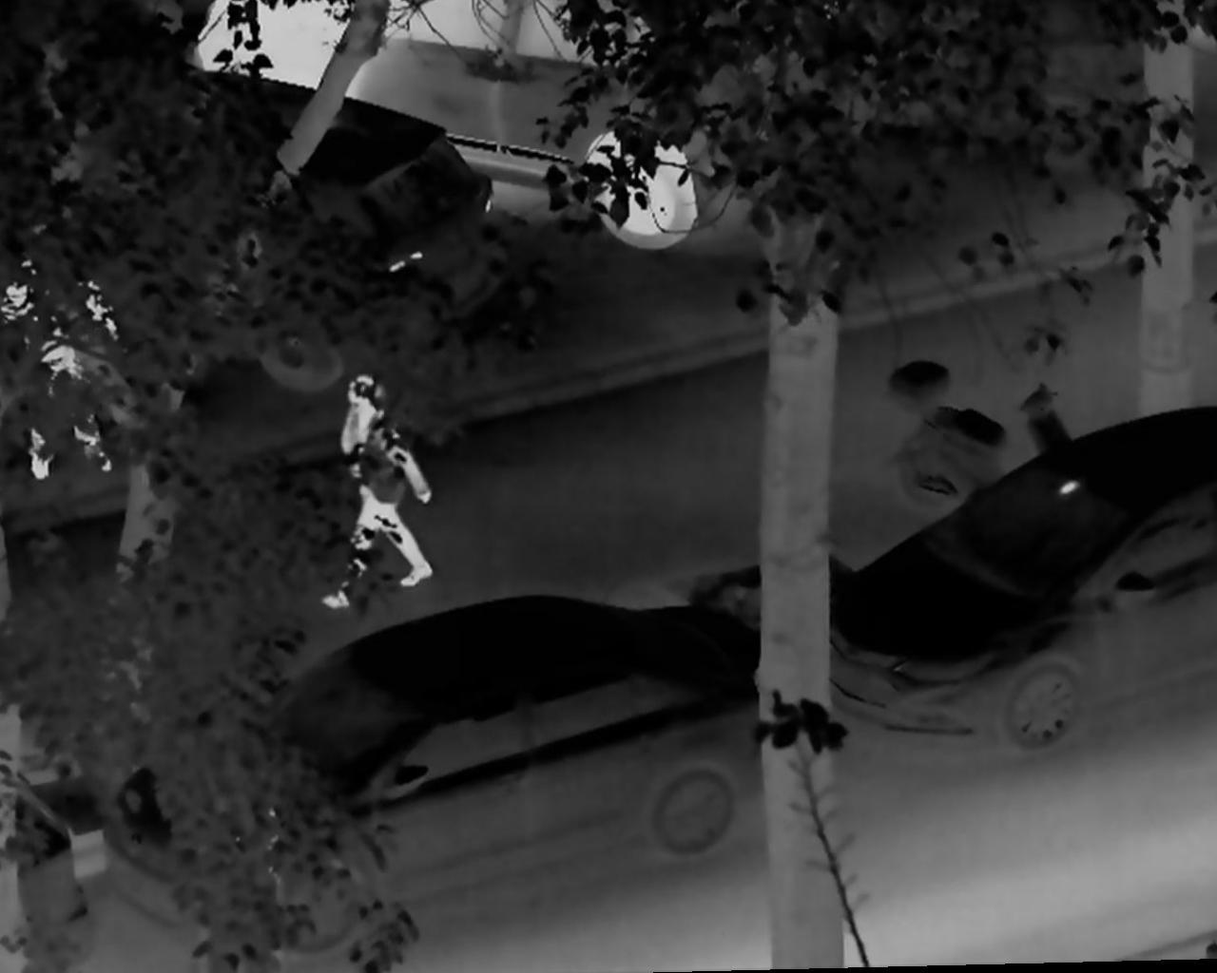person: (312, 370, 436, 610)
